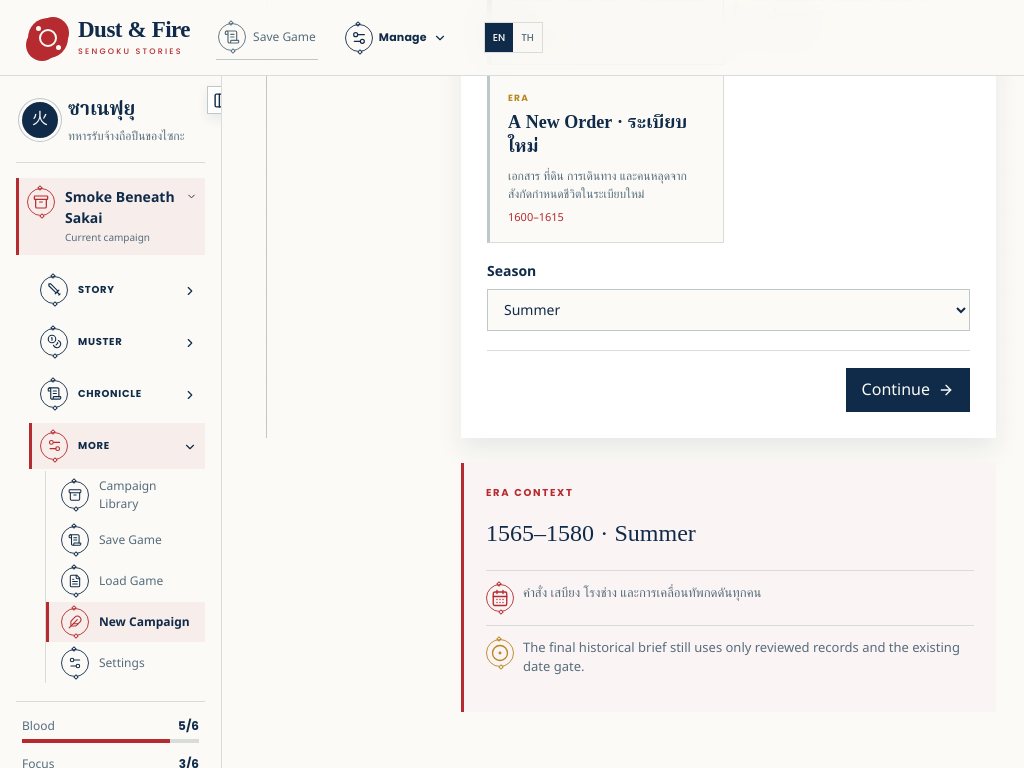
Test: UI Preview click flow › shows the full character confirmation dossier before a Local Save begins
This screenshot has width=1024, height=768.
(page scrolled)
Click the button "Continue".
click(908, 390)  # box [846, 368, 970, 412]
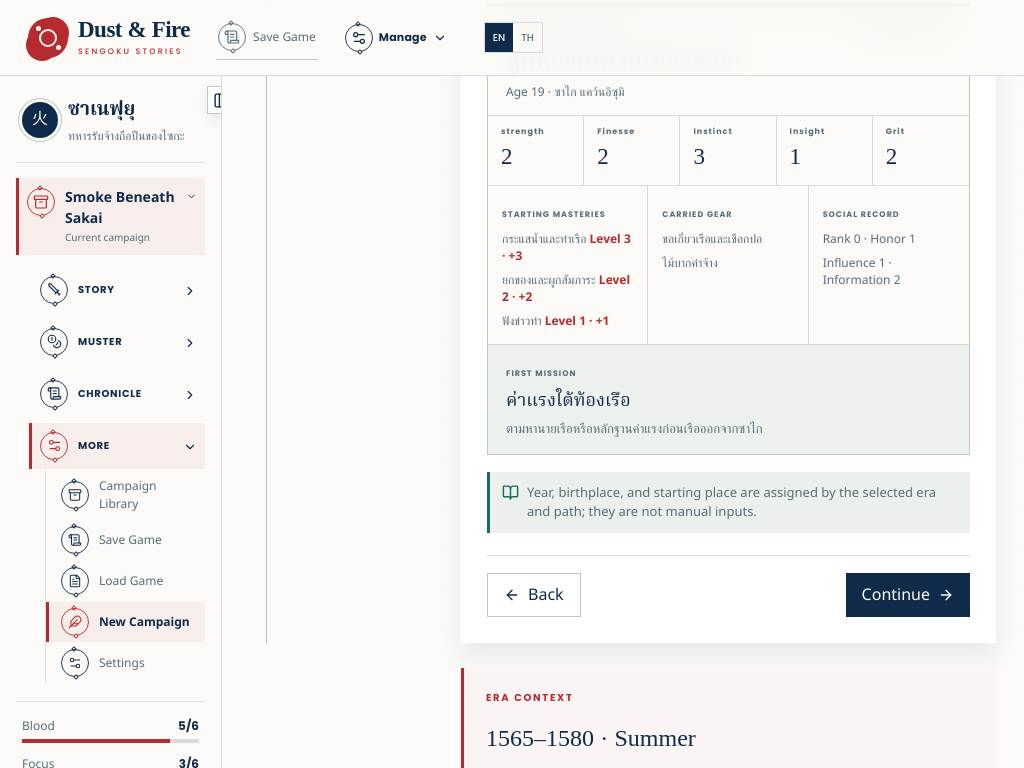
Click the button "Continue".
click(908, 595)  # box [846, 573, 970, 617]
(page scrolled)
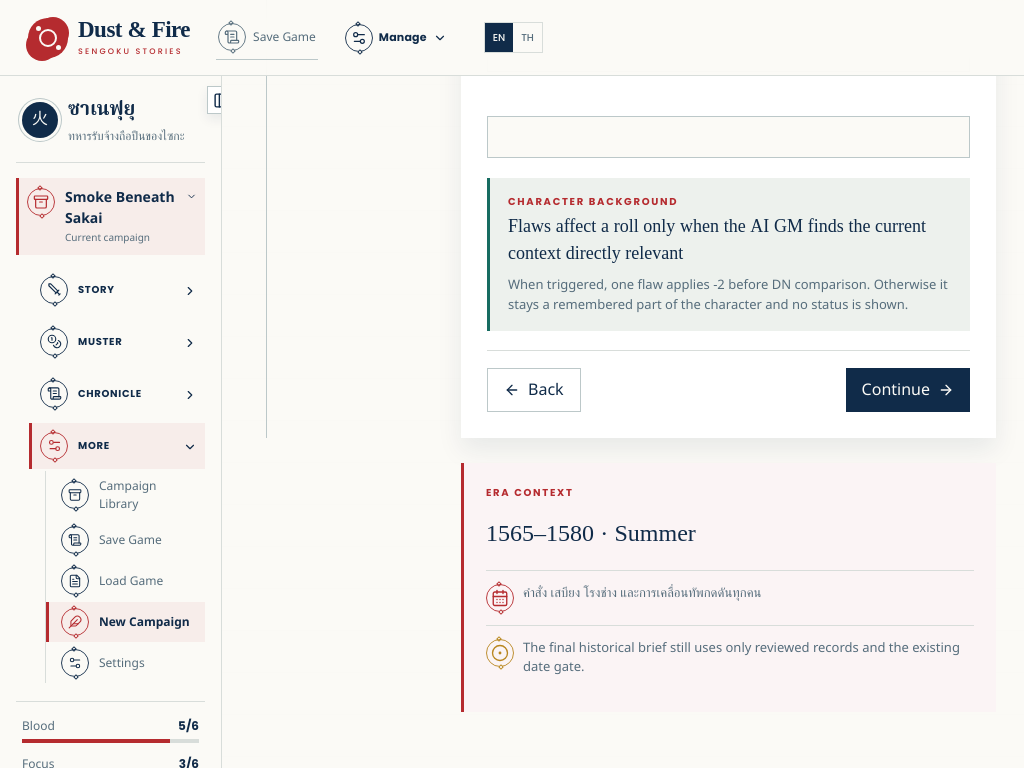
Click the button "Continue".
click(908, 390)  # box [846, 368, 970, 412]
(page scrolled)
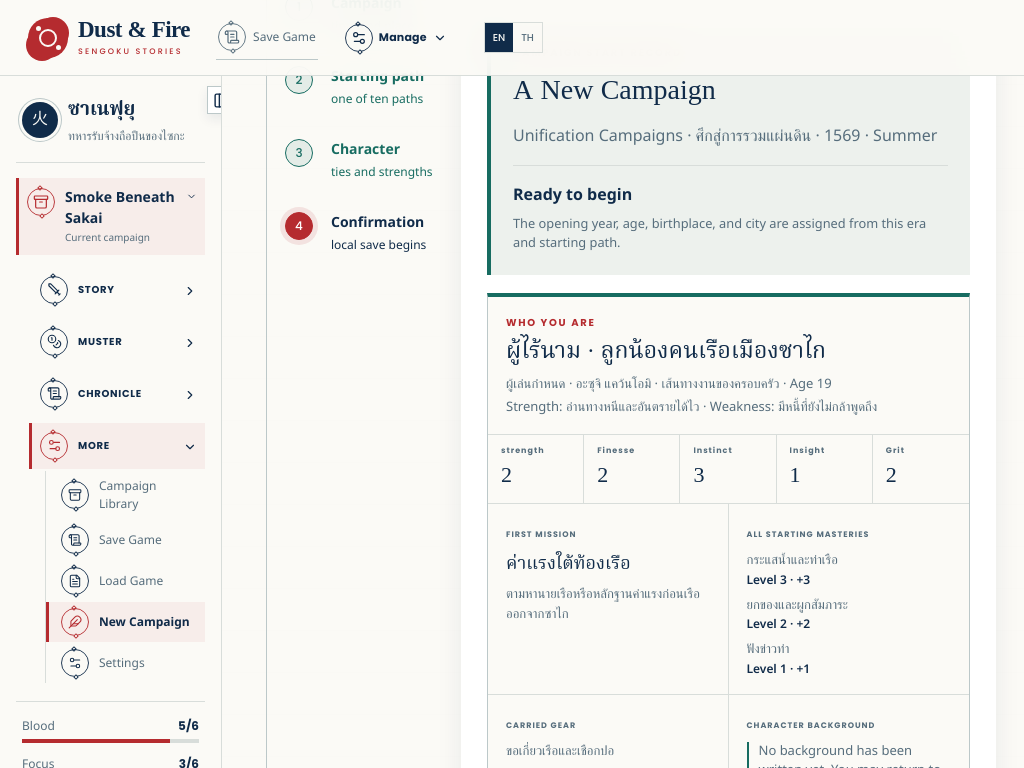
Check: the text "WHO YOU ARE" is shown, box [506, 315, 596, 330]
Check: the text "FIRST MISSION" is shown, box [506, 529, 576, 540]
Check: the text "ALL STARTING MASTERIES" is shown, box [746, 529, 869, 540]
